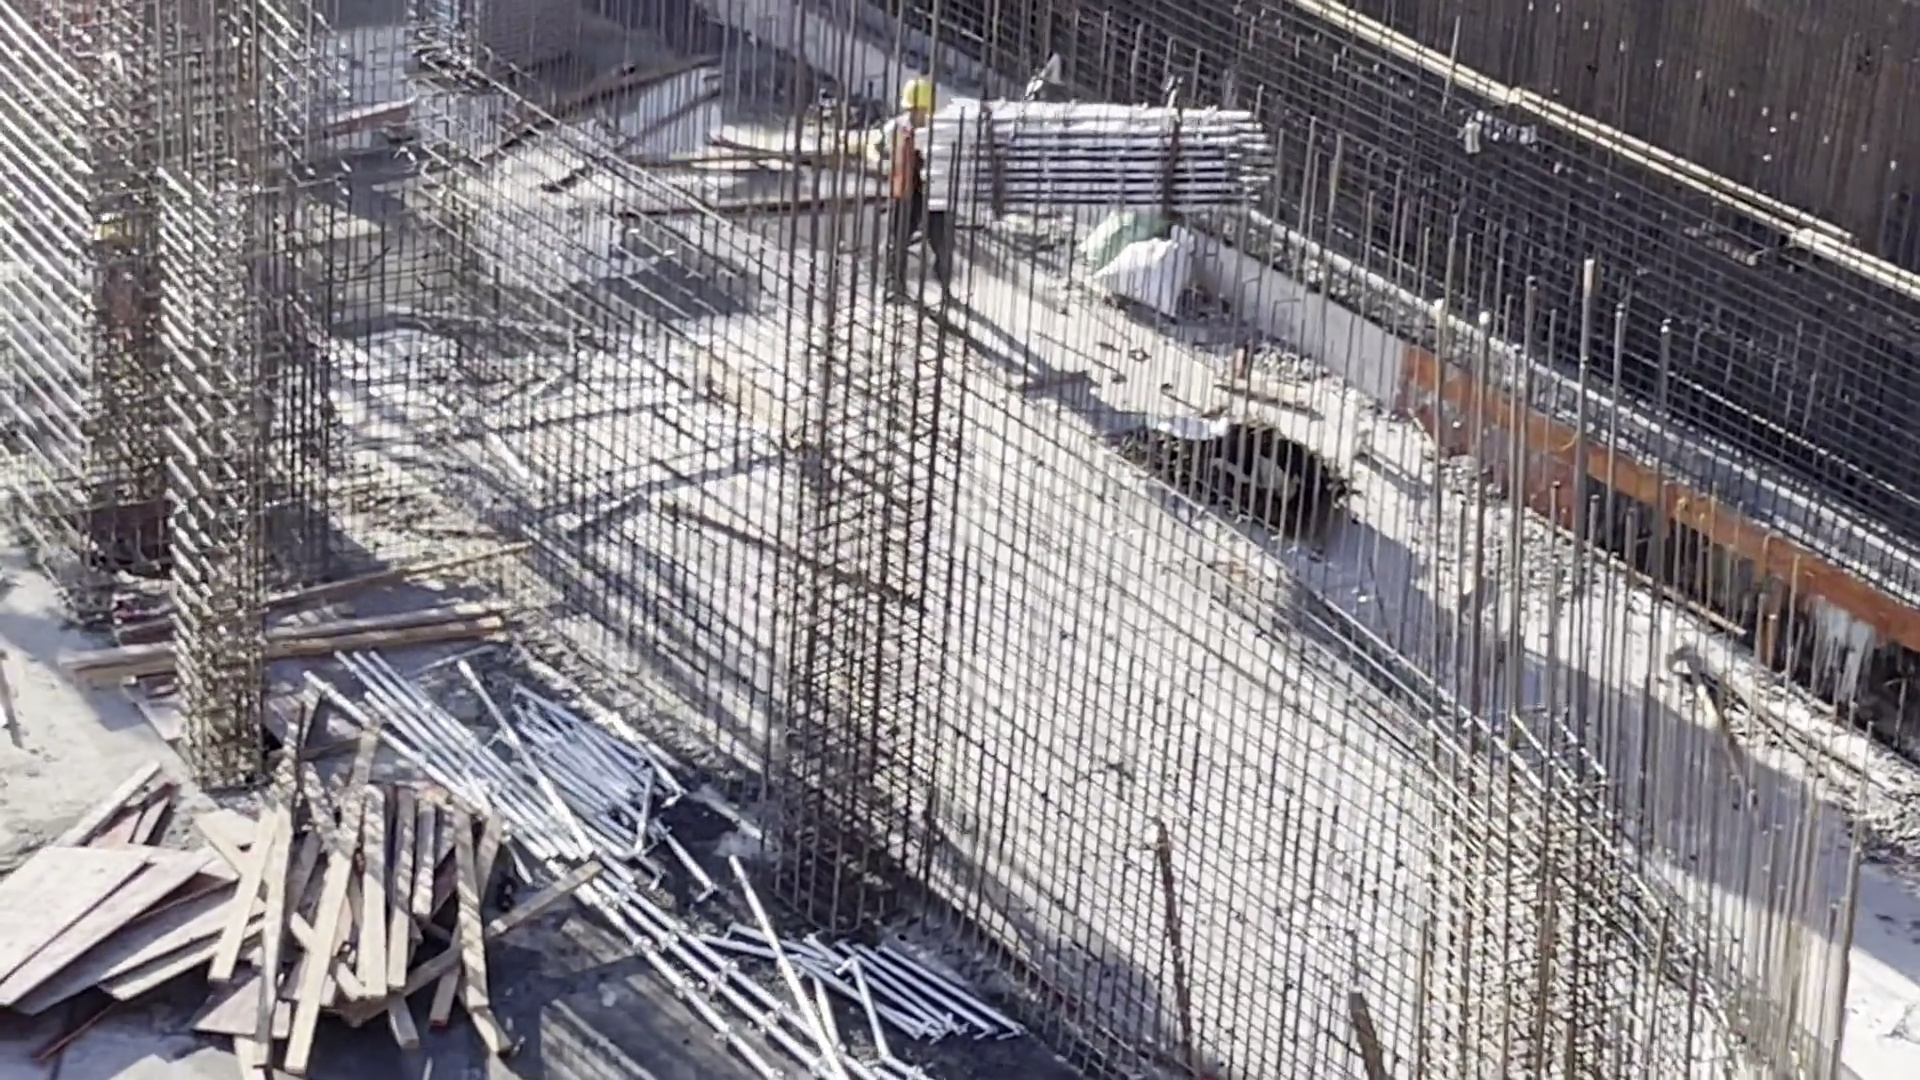board: (1, 848, 246, 1007)
helmet: (893, 78, 945, 109)
person: (877, 74, 964, 297)
scaffold: (899, 76, 1287, 221), (466, 704, 638, 852), (788, 927, 966, 1049), (424, 2, 609, 87)
vest: (885, 106, 928, 208)
wood: (200, 742, 504, 1074)
